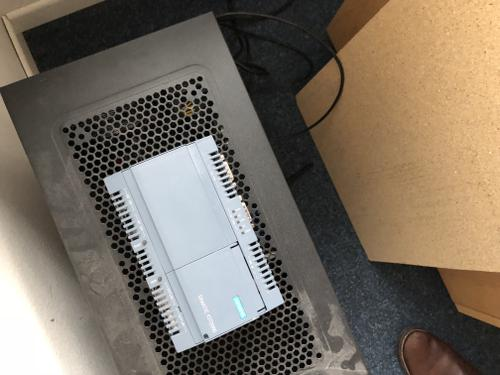device: (104, 135, 285, 354)
